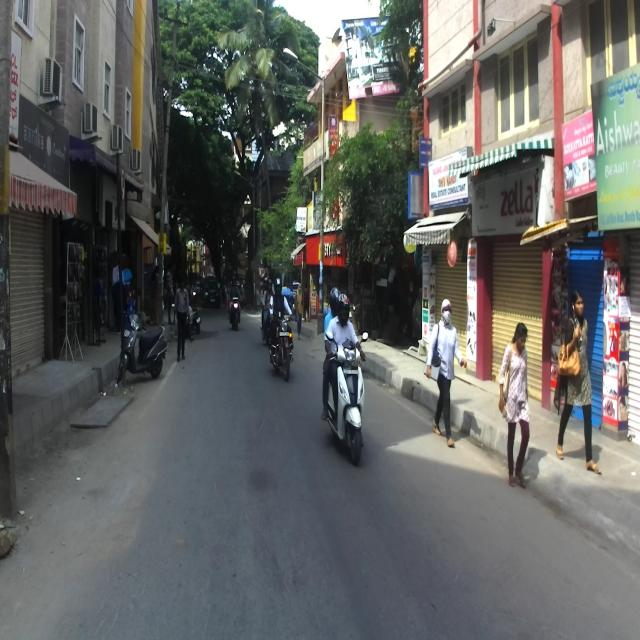motorcycle: (267, 303, 295, 381), (227, 289, 241, 330)
scooter: (322, 331, 368, 464), (117, 308, 168, 384)
